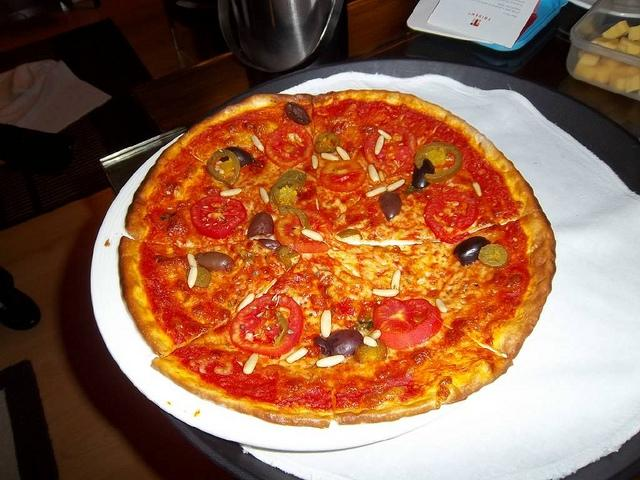tomato: (228, 294, 304, 354), (372, 298, 443, 350), (424, 192, 478, 244), (273, 210, 332, 253), (190, 196, 247, 239), (264, 123, 314, 168), (320, 160, 368, 192)
